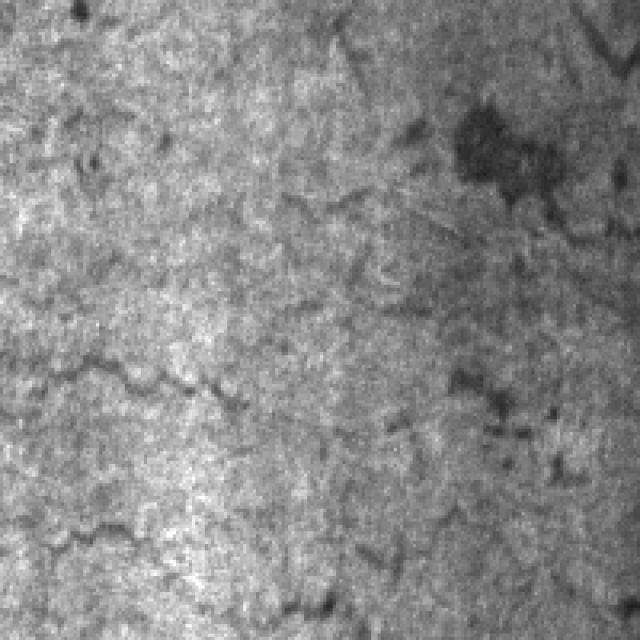crazing: (0, 346, 416, 614), (272, 189, 451, 317)
patches: (445, 90, 566, 204)
